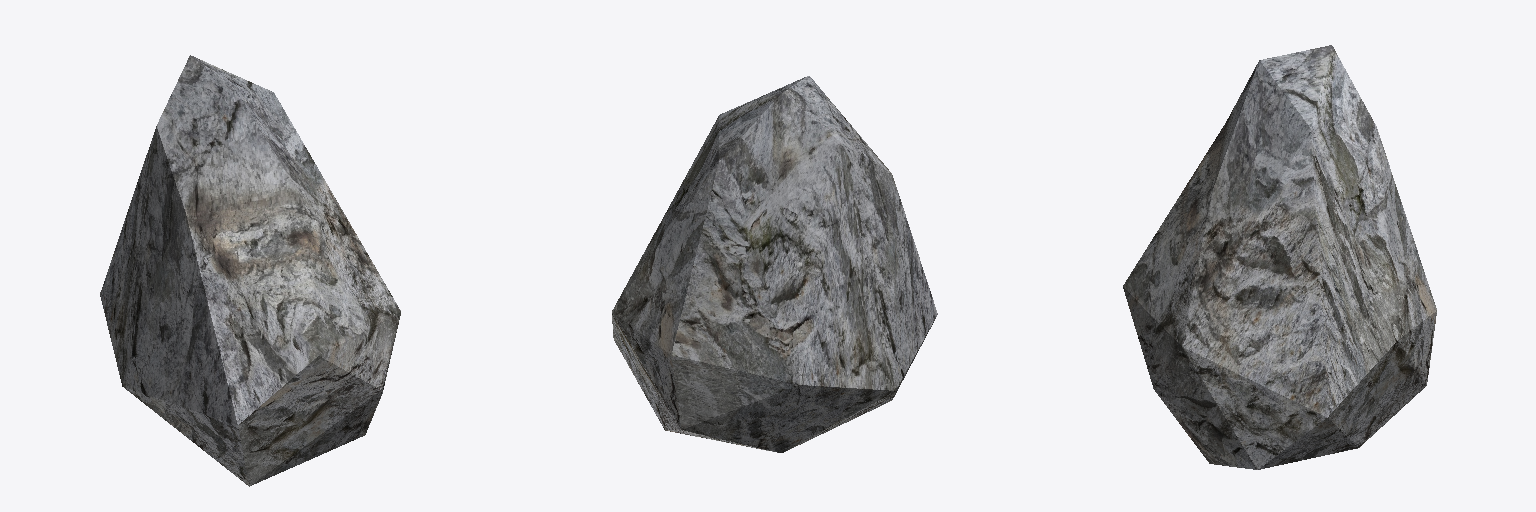
3 views of the same model, side by side, from view 1: azimuth 30°, elevation 25°; view 2: azimuth 150°, elevation 25°; view 3: azimuth 270°, elevation 25° (orthographic).
Parts seen in each view (by area): view 1: rockhigh8; view 2: rockhigh8; view 3: rockhigh8.
Part boxes in pixels (x1,y1,x2,y2): rockhigh8: (100, 55, 400, 486); rockhigh8: (612, 76, 937, 452); rockhigh8: (1123, 45, 1436, 469).
Bounding box in the file's own units: 1.78 × 2.49 × 1.85.
1 materials, 1 textured.